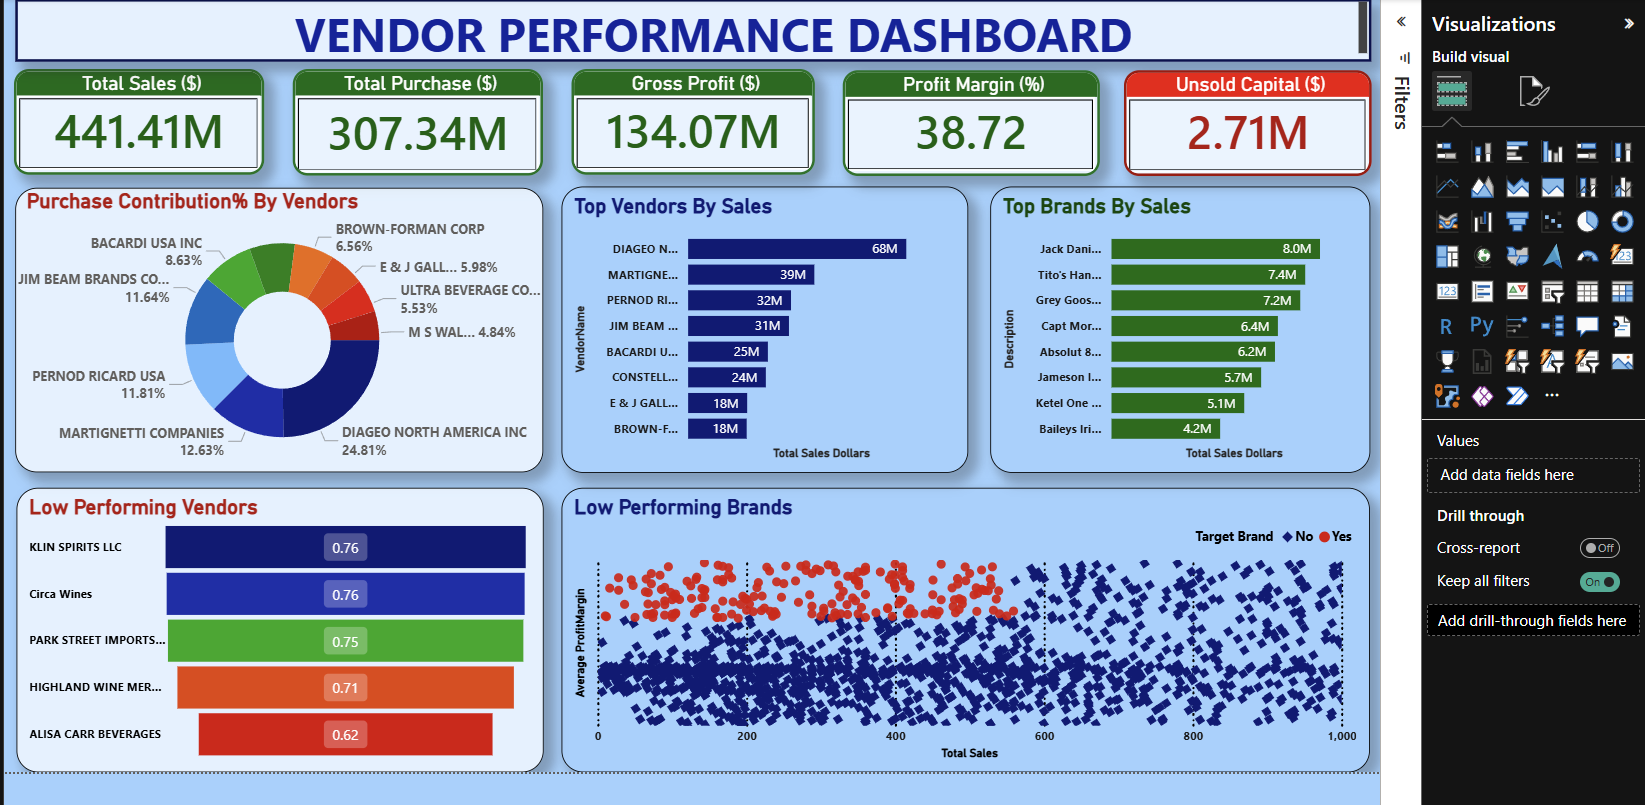

The dashboard page shown, as its layout file describes it:
{"tool":"powerbi","page":{"name":"Page 1","canvas":[1280,720],"ordinal":0},"visuals":[{"type":"cardVisual","title":"Total Sales ($)","fields":{"Data":["Sum(vendor_sales_summary.TotalSalesDollars)"]},"box":[9.4,64.6,232.7,98.2],"z":0},{"type":"textbox","box":[10,0,1261.6,59.5],"z":1000},{"type":"cardVisual","title":"Total Purchase ($)","fields":{"Data":["Sum(vendor_sales_summary.TotalPurchaseDollars)"]},"box":[268.7,64.7,232.6,99.5],"z":2000},{"type":"cardVisual","title":"Gross Profit ($)","fields":{"Data":["Sum(vendor_sales_summary.GrossProfit)"]},"box":[527.4,64.7,226.4,98.3],"z":3000},{"type":"cardVisual","title":"Profit Margin (%)","fields":{"Data":["Avg(vendor_sales_summary.ProfitMargin)"]},"box":[780,65.9,238.8,98.3],"z":4000},{"type":"cardVisual","title":"Unsold Capital ($)","fields":{"Data":["Sum(vendor_sales_summary.UnsoldCapital)"]},"box":[1041.5,65.8,230.5,98.5],"z":5000},{"type":"barChart","title":"Top Vendors By Sales","fields":{"Y":["Sum(vendor_sales_summary.TotalSalesDollars)"],"Category":["vendor_sales_summary.VendorName"]},"box":[518.7,174.2,378.2,266.2],"z":6000},{"type":"barChart","title":"Top Brands By Sales","fields":{"Category":["vendor_sales_summary.Description"],"Y":["Sum(vendor_sales_summary.TotalSalesDollars)"]},"box":[917.2,174.2,353.5,266.2],"z":7000},{"type":"donutChart","title":"Purchase Contribution% By Vendors","fields":{"Category":["PurchaseContribution.VendorName"],"Y":["Sum(PurchaseContribution.PurchaseContribution%)"]},"box":[10,175.4,491.4,265],"z":8000},{"type":"scatterChart","title":"Low Performing Brands","fields":{"Category":["BrandPerformance.Description"],"X":["Sum(BrandPerformance.Total Sales)"],"Y":["Avg(BrandPerformance.AvgProfitMargin)"],"Series":["BrandPerformance.TargetBrand"]},"box":[519.1,454.6,751.8,264.9],"z":9000},{"type":"funnel","title":"Low Performing Vendors","fields":{"Category":["LowTurnoverVendor.VendorName"],"Y":["Avg(LowTurnoverVendor.AvgStockTurnOver)"]},"box":[10,455,491,265],"z":9001}]}

Visuals, with their boxes on the page's 1280x720 design canvas (x1, y1, x2, y2). These are canvas units, not pixel positions in the 1645x805 screenshot, which may show the page scaled, cropped or inside an application window:
"Total Sales ($)" cardVisual: rect(9, 65, 242, 163)
textbox: rect(10, 0, 1272, 60)
"Total Purchase ($)" cardVisual: rect(269, 65, 501, 164)
"Gross Profit ($)" cardVisual: rect(527, 65, 754, 163)
"Profit Margin (%)" cardVisual: rect(780, 66, 1019, 164)
"Unsold Capital ($)" cardVisual: rect(1042, 66, 1272, 164)
"Top Vendors By Sales" barChart: rect(519, 174, 897, 440)
"Top Brands By Sales" barChart: rect(917, 174, 1271, 440)
"Purchase Contribution% By Vendors" donutChart: rect(10, 175, 501, 440)
"Low Performing Brands" scatterChart: rect(519, 455, 1271, 720)
"Low Performing Vendors" funnel: rect(10, 455, 501, 720)
